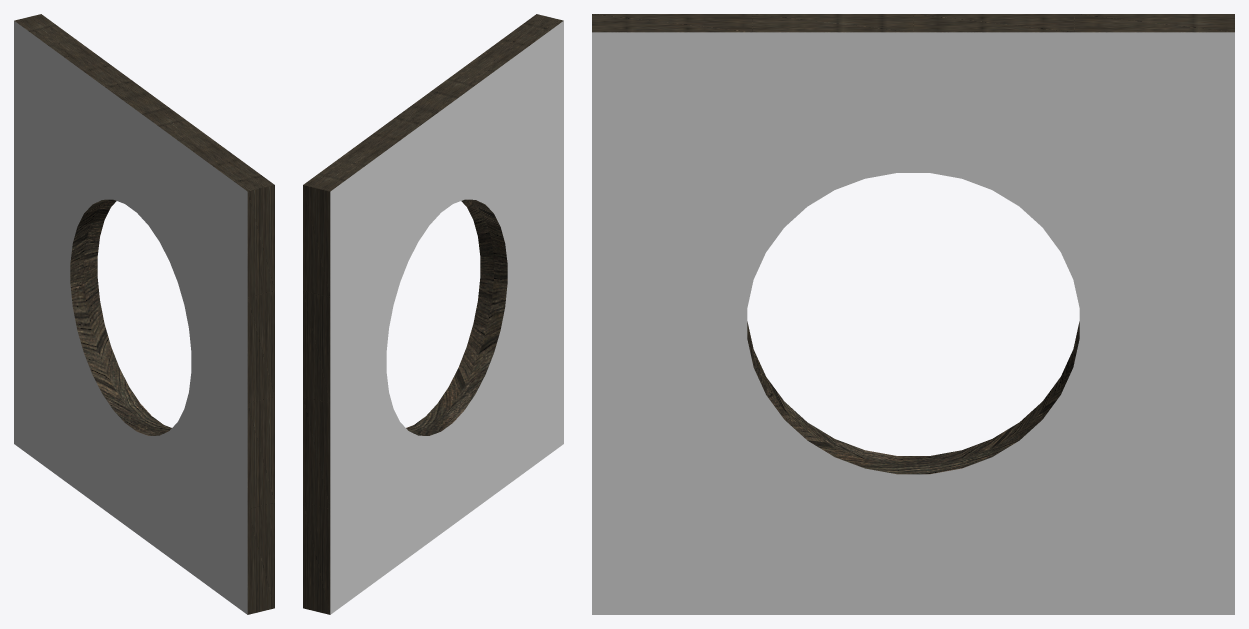
File: YuvarlakDelikWall.fbx
3 renders of one model, left to right at view 1: azimuth 30°, elevation 25°; view 2: azimuth 150°, elevation 25°; view 3: azimuth 270°, elevation 25°, orthographic. The views are drawn at different scales.
Parts seen in each view (by area): view 1: Cube.001; view 2: Cube.001; view 3: Cube.001.
Boxes of the visible parts, left/top/right/bottom form: Cube.001: left=14, top=14, right=274, bottom=614; Cube.001: left=303, top=14, right=563, bottom=614; Cube.001: left=592, top=14, right=1234, bottom=614.
Bounding box in the file's own units: 20.19 × 300 × 300.
Materials: 3 (1 with a texture image).
